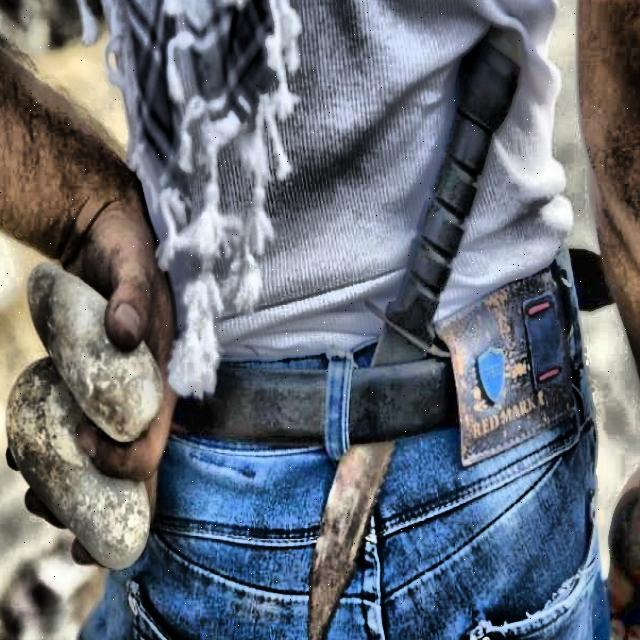knife: (307, 28, 524, 640)
